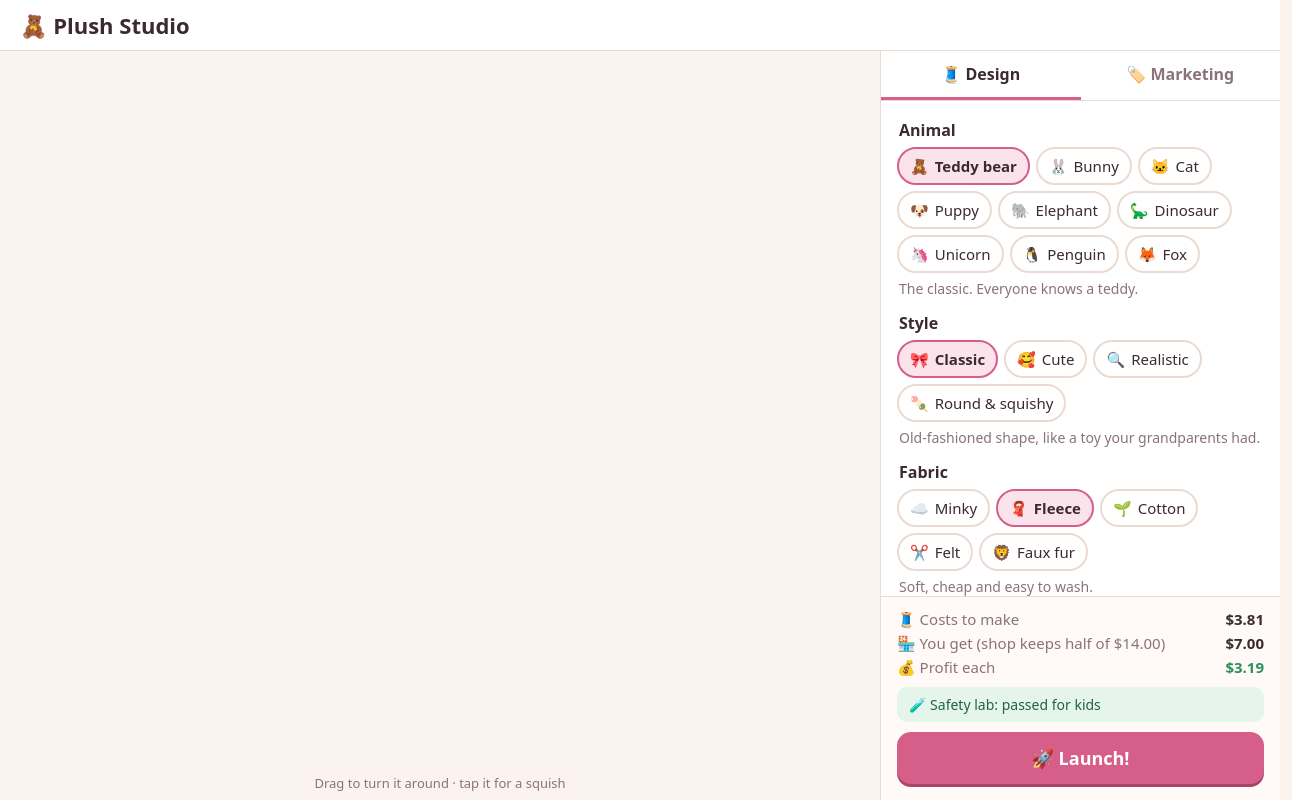
Test case: choosing Bunny changes the animal
Click the button "🐰 Bunny" at (1084, 166), box [1036,147,1132,185]
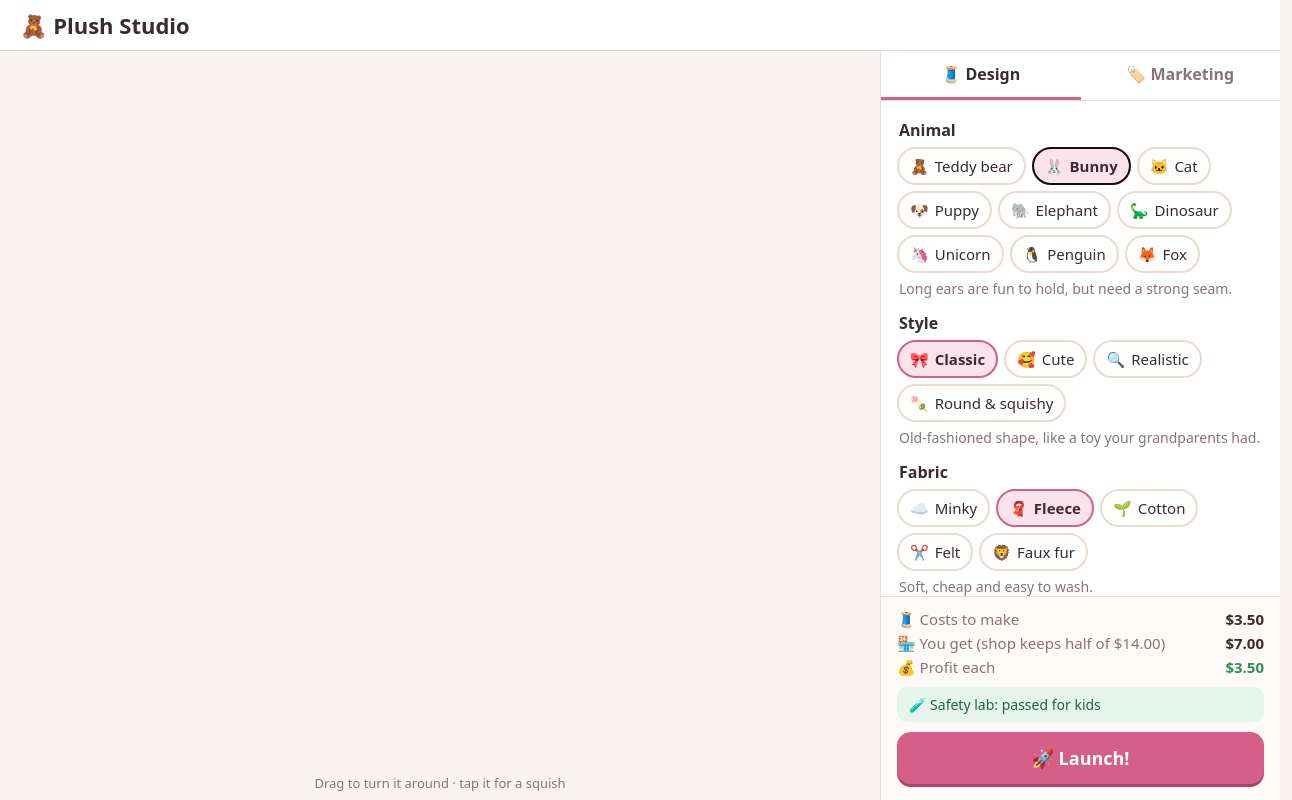
Result: the button "🐰 Bunny" is pressed at [1032,147,1131,185]
